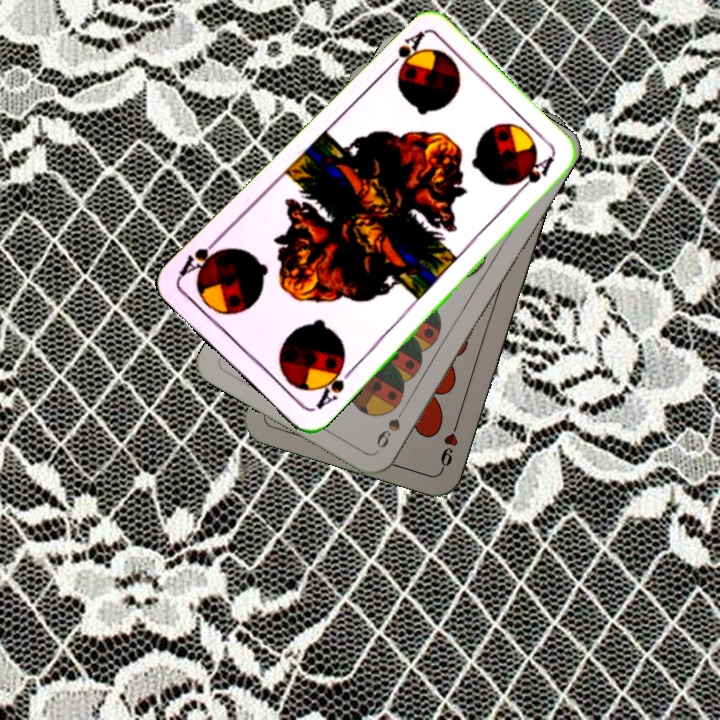H9: (436, 414, 462, 472)
S9: (372, 399, 411, 451)
SA: (311, 359, 356, 412), (380, 27, 427, 75)
